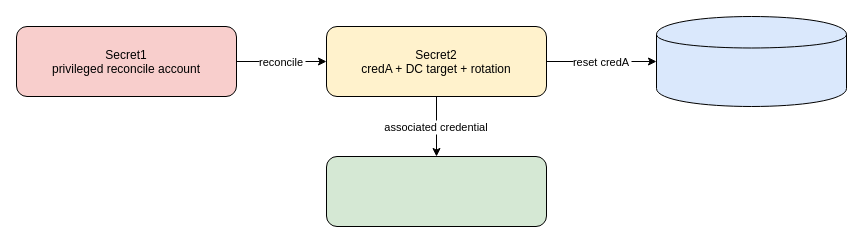
Some shapes in this 863 by 243 pixel diagram are drawn without their labels. Here are the shapes that lost their labels. From the top down, the centre of each, then its label:
At (751,61): "Domain Controller authoritative password store".
At (436,191): "Secret3 launcher-only → jumpbox".
